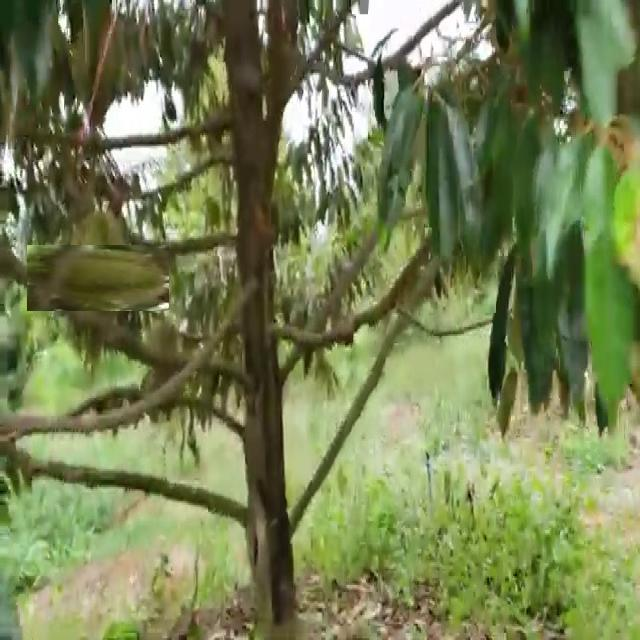durian: (45, 226, 150, 330)
